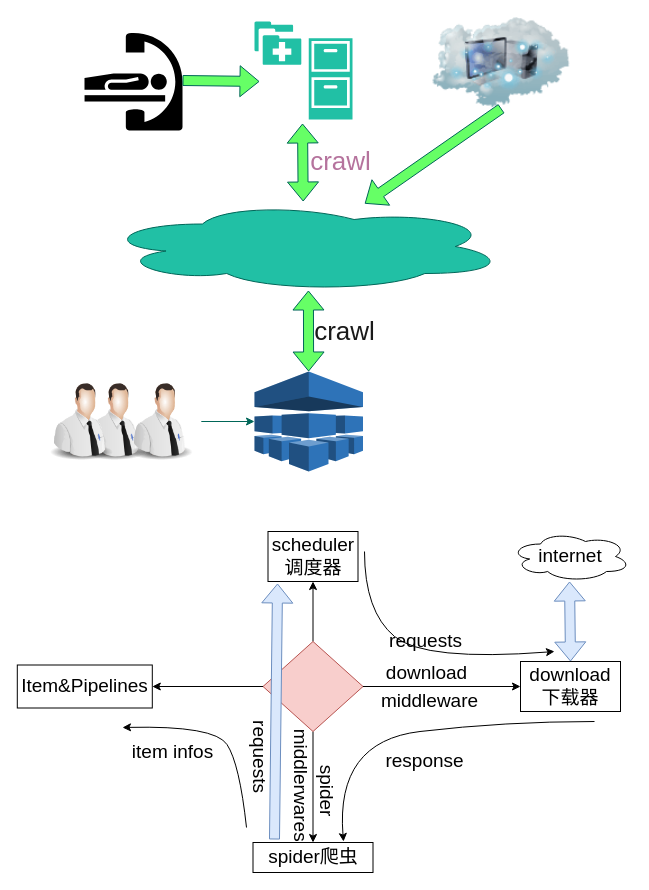
Image size: 649x890. Some labels were removed from this diagram. The centre of each missing label's shape, as x and y in pixels:
"medical image system" belongs at [303,246].
"scrapy engine" belongs at [312,686].
